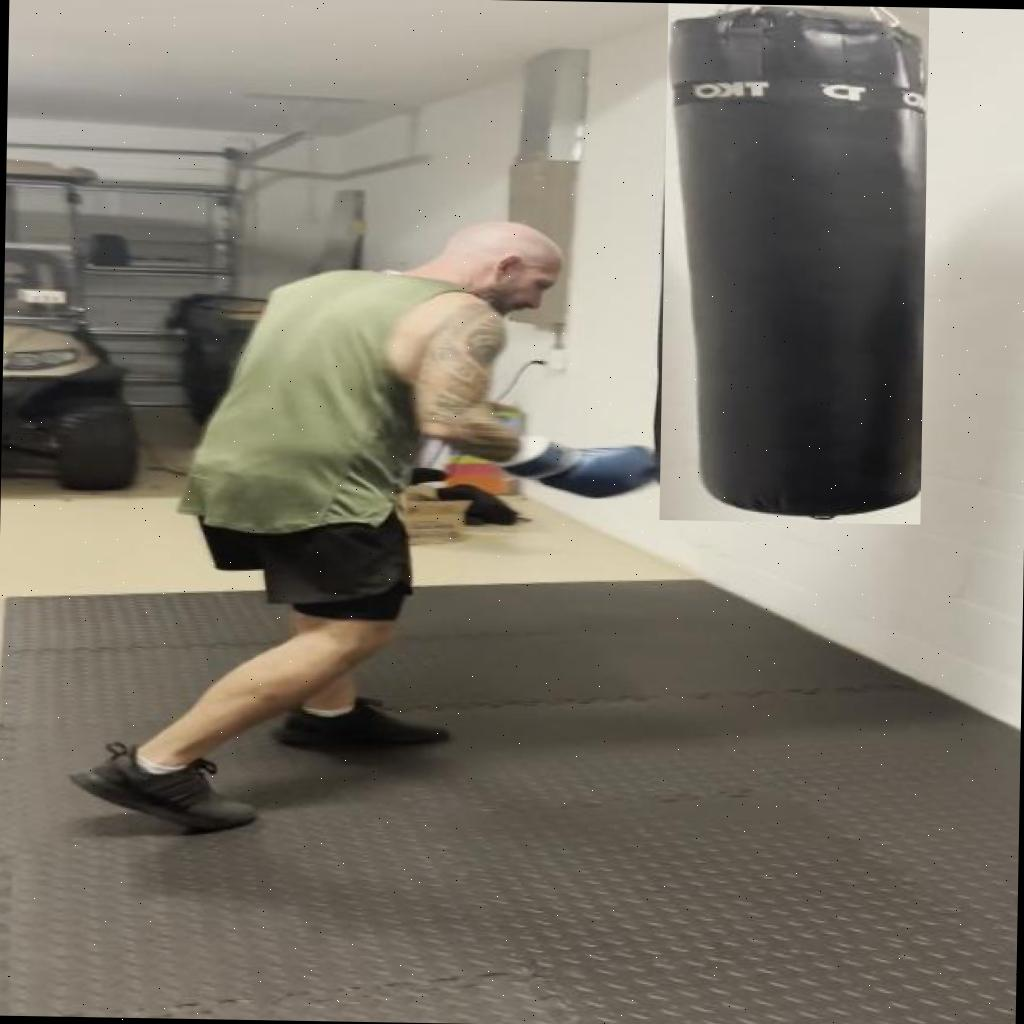bag: (659, 3, 929, 524)
uppercut: (218, 214, 676, 506)
